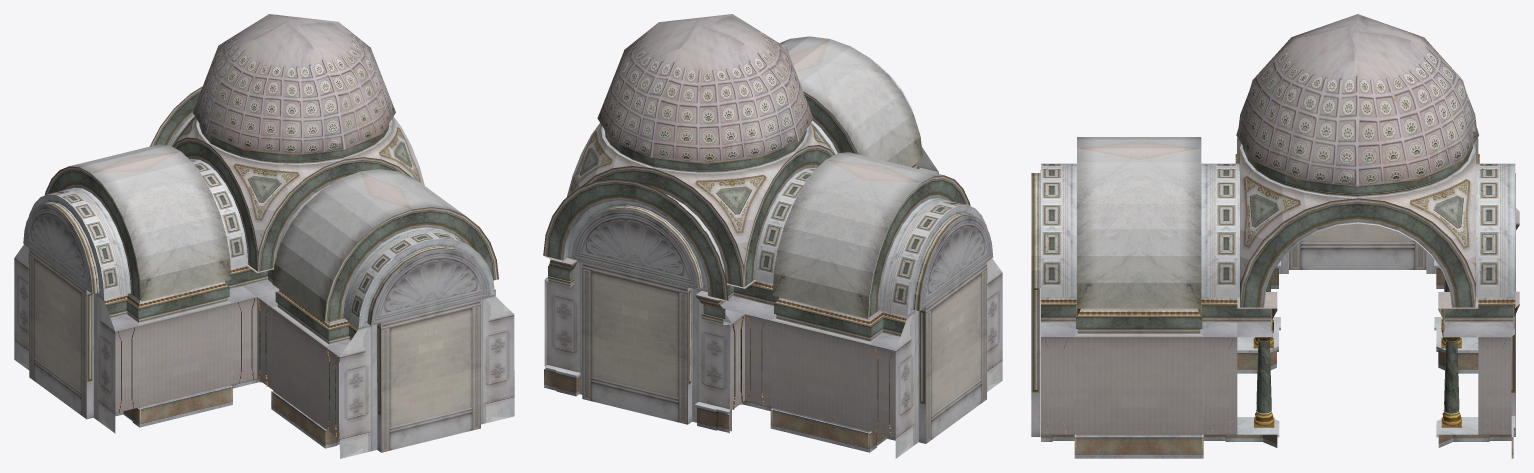
Rendered from Temple.obj.
The picture shows the model from 3 angles, left to right: view 1: azimuth 30°, elevation 25°; view 2: azimuth 150°, elevation 25°; view 3: azimuth 270°, elevation 25°; orthographic projection. The views are drawn at different scales.
Visible parts, largest first — view 1: Gang_Cap_Bogen010, Object063, Gang_Cap_Bogen011, Object064, object 8, Gang_Wand_Standart089, Object065, object 12, object 4, Gang_Wand_Standart092, Object062, object 6 (+2 smaller); view 2: Gang_Cap_Bogen007, Object063, Gang_Cap_Bogen011, Object064, object 8, Gang_Wand_Standart090, object 6, Object065, object 4, Object062, object 12, Kurve008 (+1 smaller); view 3: Object063, Object065, object 12, Gang_Wand_Standart091, object 4, object 6, Object062, Kurve008, Gang_Cap_Bogen011, Pillar_Round113, Gang_Cap_Bogen010, object 8 (+1 smaller).
Boxes of the visible parts, box(x1,y1,x2,y2) form: Gang_Cap_Bogen010: box(339, 238, 514, 458); Object063: box(193, 14, 395, 155); Gang_Cap_Bogen011: box(14, 194, 115, 433); Object064: box(45, 144, 231, 301); object 8: box(29, 159, 257, 427); Gang_Wand_Standart089: box(138, 281, 233, 427); Object065: box(272, 169, 498, 321); object 12: box(257, 193, 498, 448); object 4: box(172, 119, 410, 271); Gang_Wand_Standart092: box(271, 290, 330, 447); Object062: box(172, 116, 424, 250); object 6: box(149, 86, 202, 146); Gang_Cap_Bogen007: box(546, 200, 731, 431); Object063: box(597, 14, 813, 163); Gang_Cap_Bogen011: box(895, 204, 1002, 458); Object064: box(772, 152, 970, 318); object 8: box(745, 168, 987, 452); Gang_Wand_Standart090: box(770, 297, 871, 452); object 6: box(543, 178, 744, 433); Object065: box(780, 36, 922, 166); object 4: box(581, 126, 834, 287); Object062: box(567, 122, 835, 264); object 12: box(803, 62, 938, 173); Kurve008: box(719, 277, 762, 409); Object063: box(1236, 14, 1479, 186); Object065: box(1077, 137, 1201, 308); object 12: box(1041, 163, 1237, 458); Gang_Wand_Standart091: box(1073, 308, 1204, 458); object 4: box(1237, 144, 1478, 307); object 6: box(1478, 163, 1519, 458); Object062: box(1239, 141, 1475, 282); Kurve008: box(1237, 292, 1478, 447); Gang_Cap_Bogen011: box(1279, 223, 1436, 273); Pillar_Round113: box(1045, 154, 1505, 433); Gang_Cap_Bogen010: box(1031, 170, 1040, 436); object 8: box(1270, 260, 1444, 351).
Size of the model in its own units: 15.25 by 14.38 by 16.63.
Materials: 6 (6 with a texture image).
